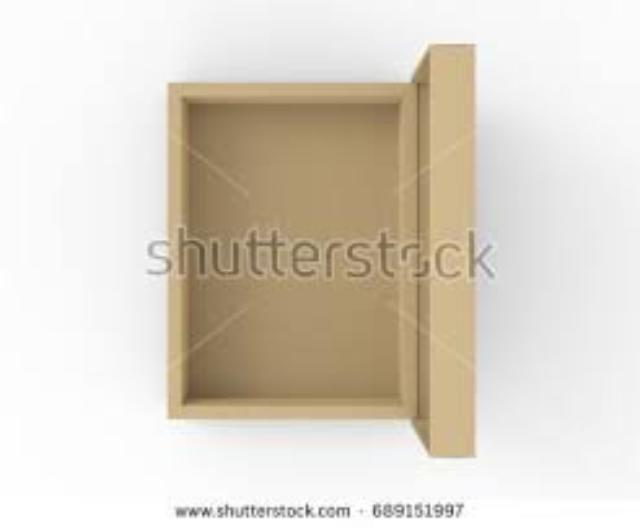cardboard paper: (166, 41, 469, 451)
